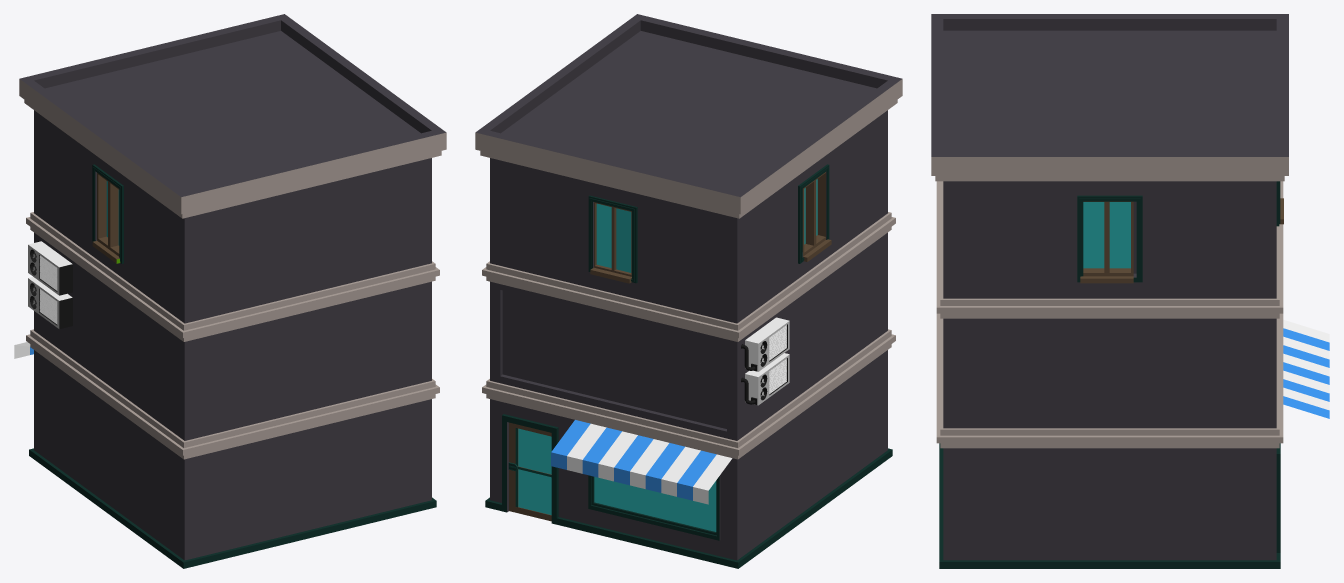
File: Himik_Street_Prop_Building_7.fbx
The picture shows the model from 3 angles, left to right: view 1: azimuth 30°, elevation 25°; view 2: azimuth 150°, elevation 25°; view 3: azimuth 270°, elevation 25°; orthographic projection. The views are drawn at different scales.
Parts seen in each view (by area): view 1: GeneralStore_Body, GeneralStore_Window_2, AC MODEL.006, AC MODEL.007; view 2: GeneralStore_Body, GeneralStore_Awning, GeneralStore_Door, GeneralStore_Window_1, GeneralStore_Window_2, AC MODEL.006, AC MODEL.007; view 3: GeneralStore_Body, GeneralStore_Window_2.001, GeneralStore_Awning.
Part boxes in pixels (left/top/right/bottom): GeneralStore_Body: left=19, top=14, right=446, bottom=568; GeneralStore_Window_2: left=92, top=173, right=120, bottom=263; AC MODEL.006: left=28, top=241, right=72, bottom=295; AC MODEL.007: left=28, top=277, right=72, bottom=329; GeneralStore_Body: left=475, top=14, right=902, bottom=568; GeneralStore_Awning: left=551, top=420, right=732, bottom=504; GeneralStore_Door: left=508, top=422, right=551, bottom=521; GeneralStore_Window_1: left=590, top=202, right=631, bottom=283; GeneralStore_Window_2: left=802, top=172, right=831, bottom=261; AC MODEL.006: left=741, top=317, right=789, bottom=371; AC MODEL.007: left=741, top=353, right=789, bottom=405; GeneralStore_Body: left=931, top=14, right=1288, bottom=568; GeneralStore_Window_2.001: left=1080, top=201, right=1133, bottom=283; GeneralStore_Awning: left=1283, top=319, right=1329, bottom=418.
Size of the model in its own units: 1658 by 1919 by 2206.
Materials: 6 (6 with a texture image).
